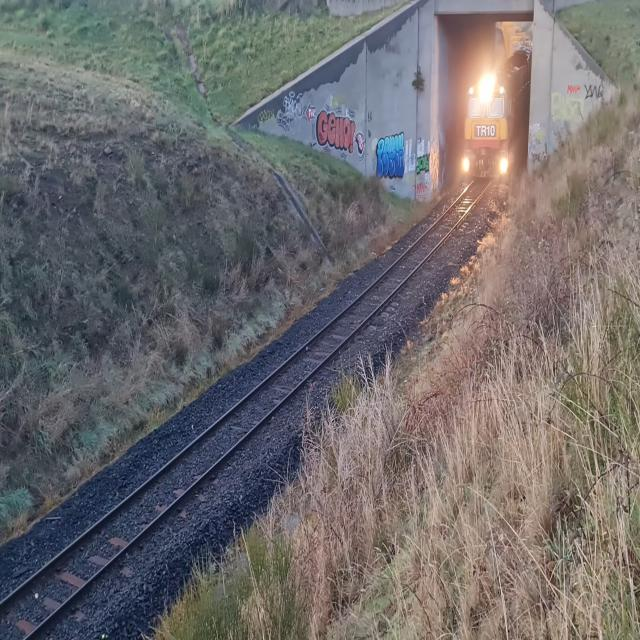locomotive: (460, 60, 514, 184)
